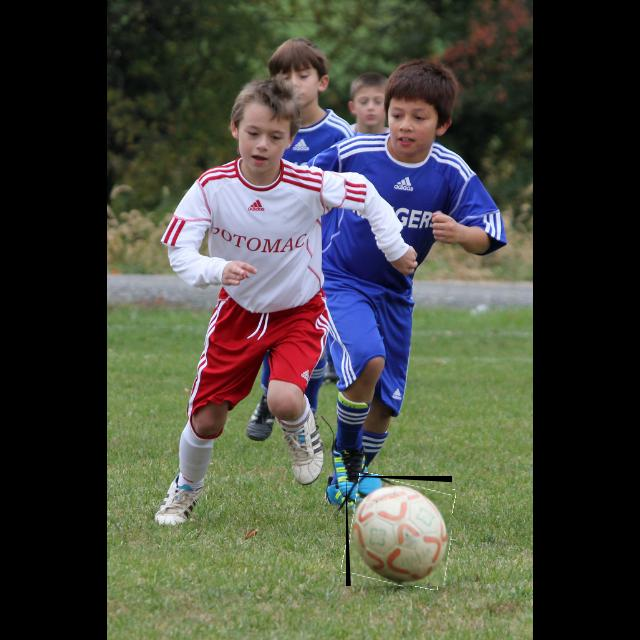Football: (346, 476, 452, 586)
